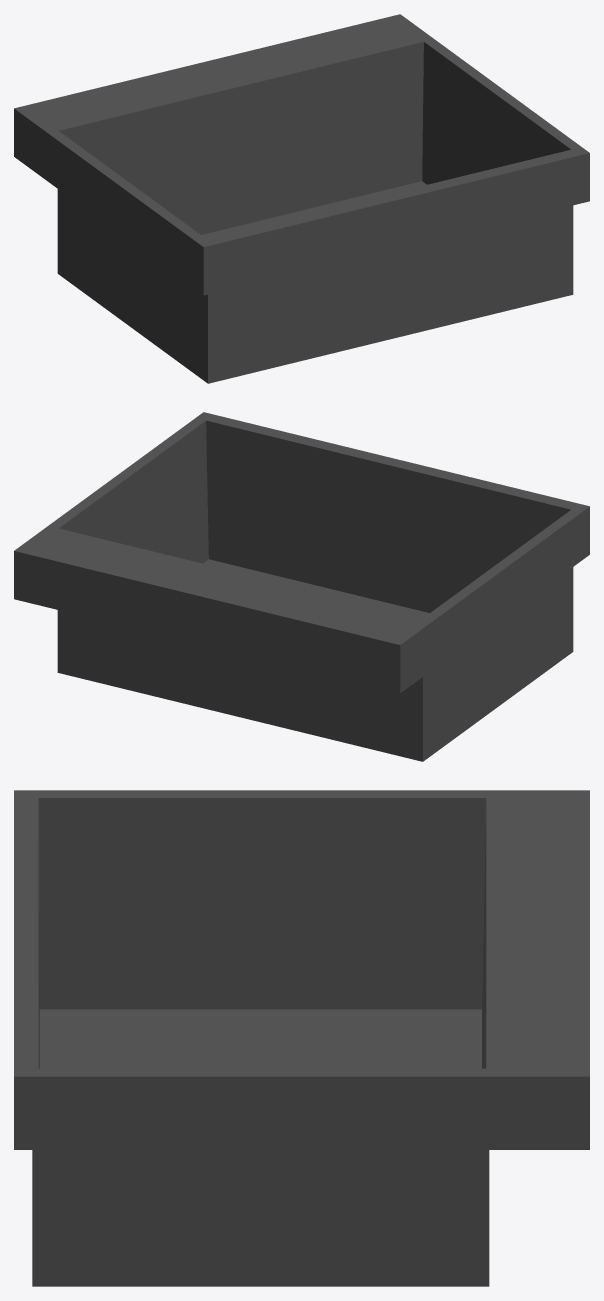
File: Sink1_C1.fbx
The picture shows the model from 3 angles, top to bottom: view 1: azimuth 30°, elevation 25°; view 2: azimuth 150°, elevation 25°; view 3: azimuth 270°, elevation 25°; orthographic projection. The views are drawn at different scales.
Visible parts, largest first — view 1: Sink1_C1; view 2: Sink1_C1; view 3: Sink1_C1.
Part boxes in pixels (left/top/right/bottom): Sink1_C1: left=14, top=14, right=589, bottom=383; Sink1_C1: left=14, top=412, right=589, bottom=761; Sink1_C1: left=14, top=790, right=589, bottom=1286.
Bounding box in the file's own units: 55 × 19.54 × 46.77.
